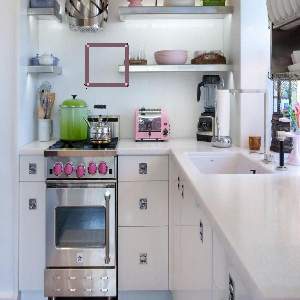square: (83, 40, 131, 88)
